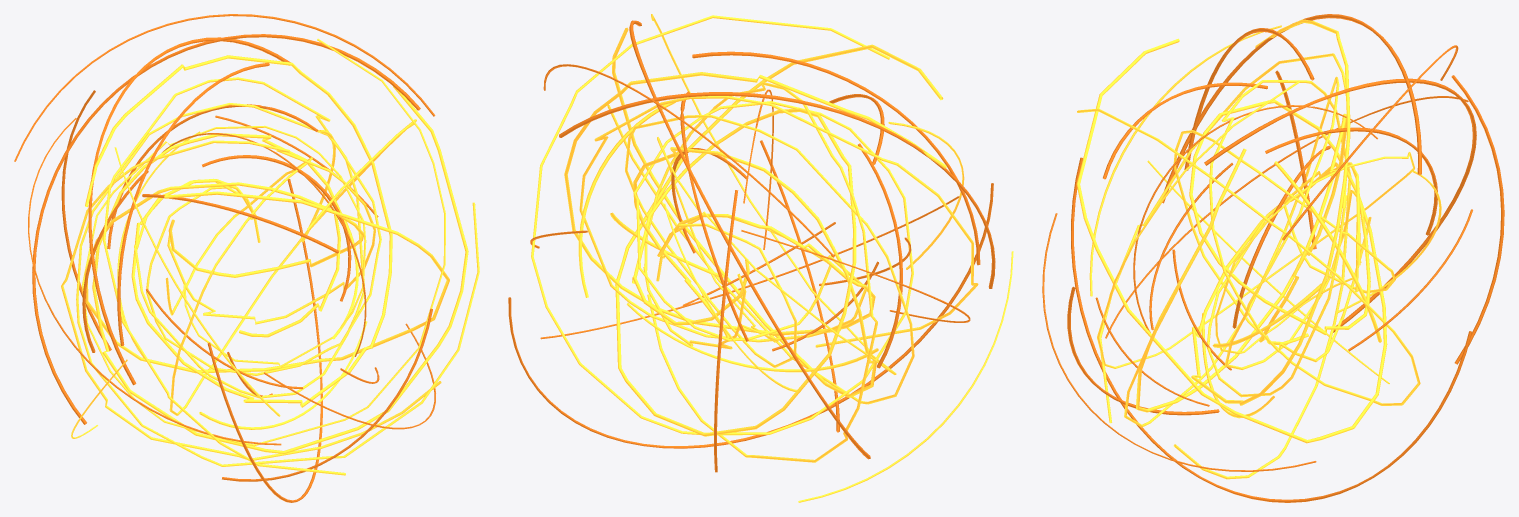
File: ev_v3_inner_lattice.glb
3 renders of one model, left to right at view 1: azimuth 30°, elevation 25°; view 2: azimuth 150°, elevation 25°; view 3: azimuth 270°, elevation 25°, orthographic. The views are drawn at different scales.
Visible parts, largest first — view 1: inner_gold_cages, inner_dim_cages; view 2: inner_gold_cages, inner_dim_cages; view 3: inner_gold_cages, inner_dim_cages.
Boxes of the visible parts, x1=… form: inner_gold_cages: x1=61, y1=38, x2=479, y2=475; inner_dim_cages: x1=14, y1=14, x2=435, y2=502; inner_gold_cages: x1=531, y1=14, x2=1013, y2=502; inner_dim_cages: x1=508, y1=20, x2=995, y2=472; inner_gold_cages: x1=1076, y1=19, x2=1441, y2=479; inner_dim_cages: x1=1042, y1=14, x2=1504, y2=502.
Bounding box in the file's own units: 335 × 342 × 332.
